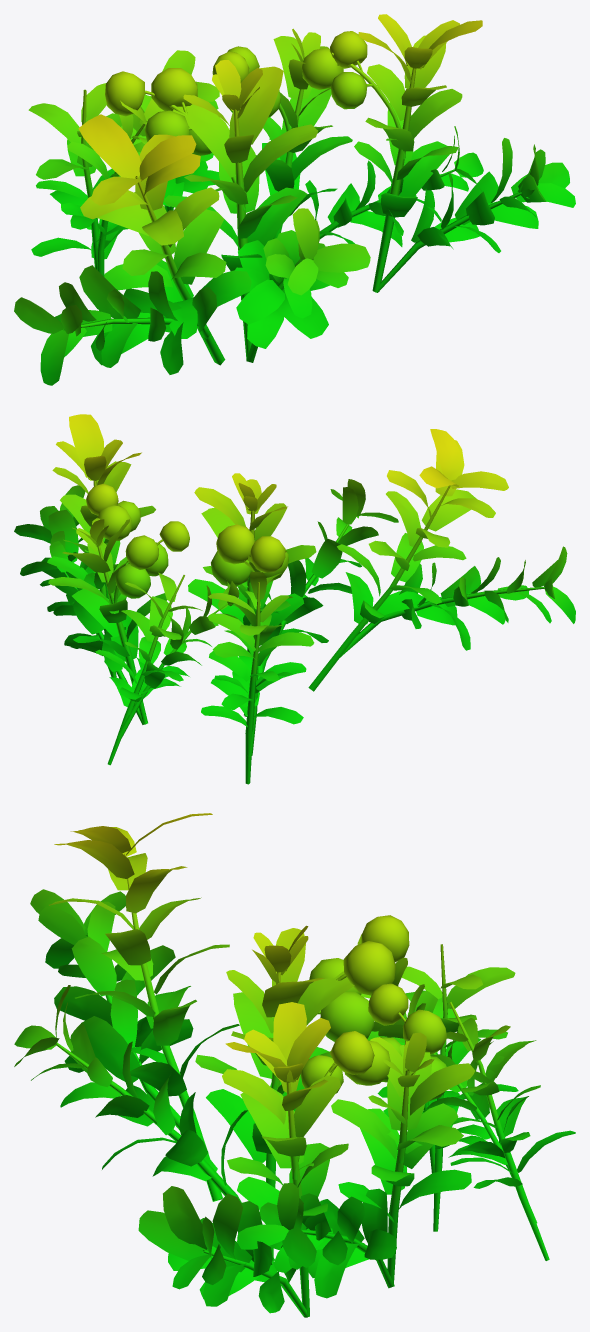
File: Lingonberry_LOD1_Var7_wjhjahlqx.fbx
3 renders of one model, top to bottom at view 1: azimuth 30°, elevation 25°; view 2: azimuth 150°, elevation 25°; view 3: azimuth 270°, elevation 25°, orthographic. The views are drawn at different scales.
Visible parts, largest first — view 1: _cahy_Var7_LOD1; view 2: _cahy_Var7_LOD1; view 3: _cahy_Var7_LOD1.
Boxes of the visible parts, x1,y1,x2,y2 form: _cahy_Var7_LOD1: [14, 14, 575, 385]; _cahy_Var7_LOD1: [14, 414, 575, 784]; _cahy_Var7_LOD1: [14, 813, 575, 1317].
Bounding box in the file's own units: 27.77 × 14.42 × 19.95.
